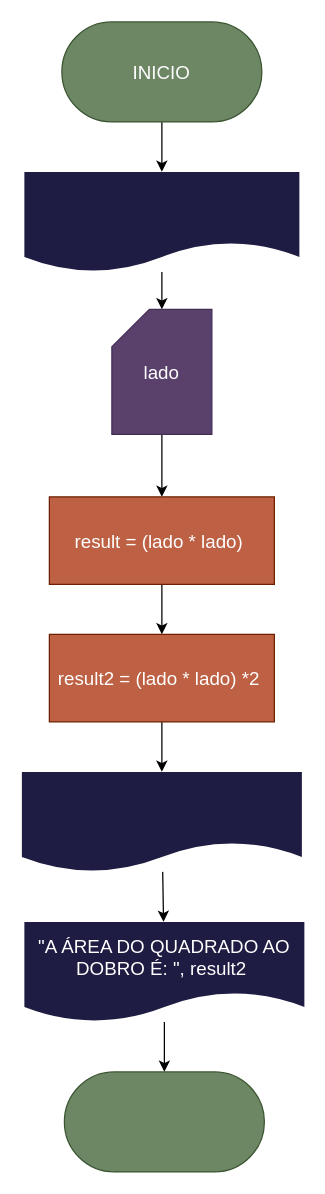
This 325x1194 diagram has some shape labels left out. Here are the shapes that lost their labels. From the top down, the centre of each, then its label:
the point at 161,221: "DIGITE O LADO DO QUADRADO "
the point at 161,821: "A ÁREA DO QUADRADO É: ", result, "\n"
the point at 163,1121: FIM
